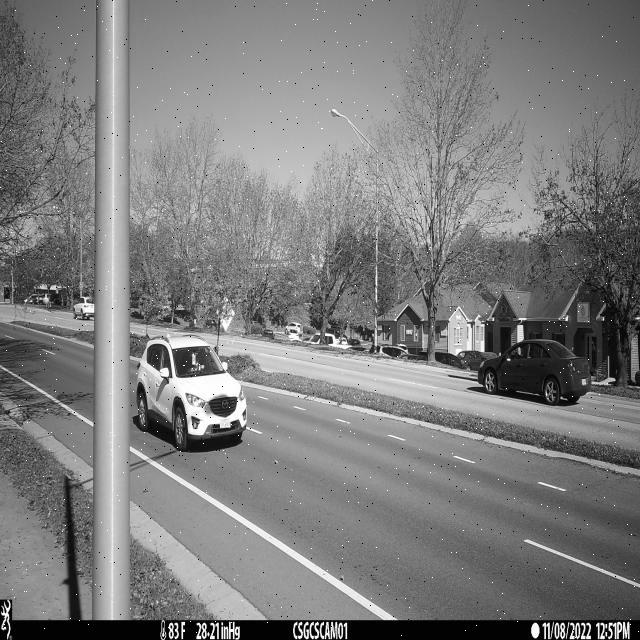SUV: (132, 333, 247, 452)
